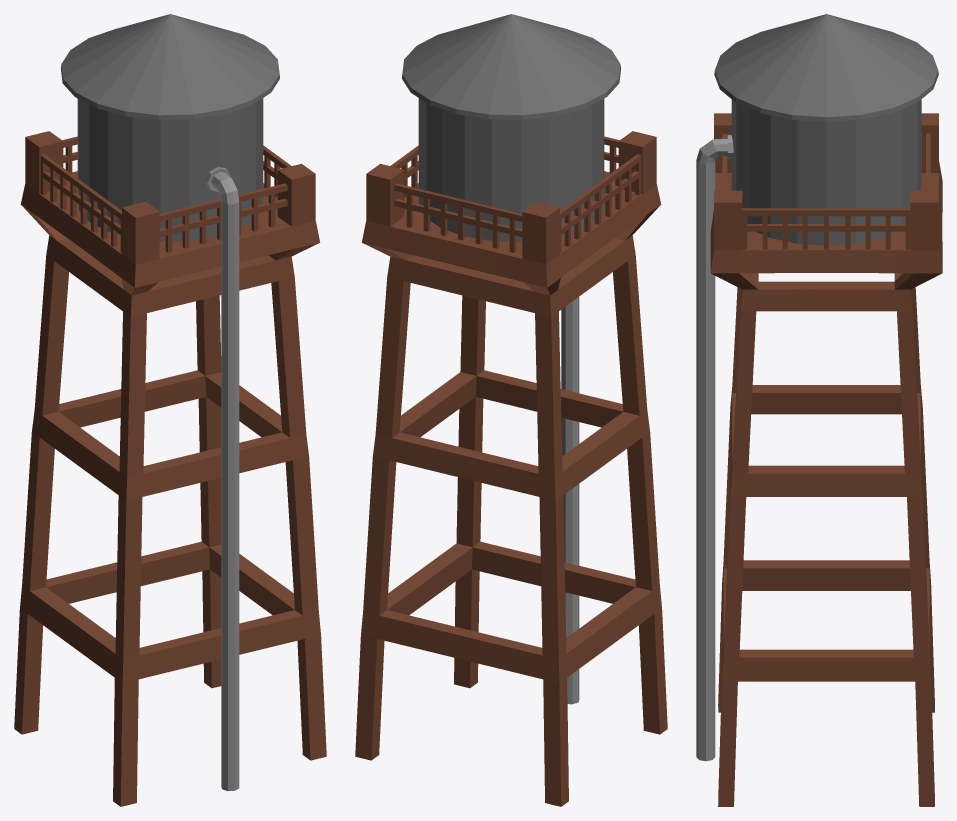
Rendered from WaterTower.fbx.
3 renders of one model, left to right at view 1: azimuth 30°, elevation 25°; view 2: azimuth 150°, elevation 25°; view 3: azimuth 270°, elevation 25°, orthographic.
Parts seen in each view (by area): view 1: WaterTower; view 2: WaterTower; view 3: WaterTower.
Boxes of the visible parts, bbox=[...] form: WaterTower: bbox=[14, 14, 326, 806]; WaterTower: bbox=[355, 14, 667, 806]; WaterTower: bbox=[696, 14, 942, 806].
Size of the model in its own units: 464 by 1570 by 472.
